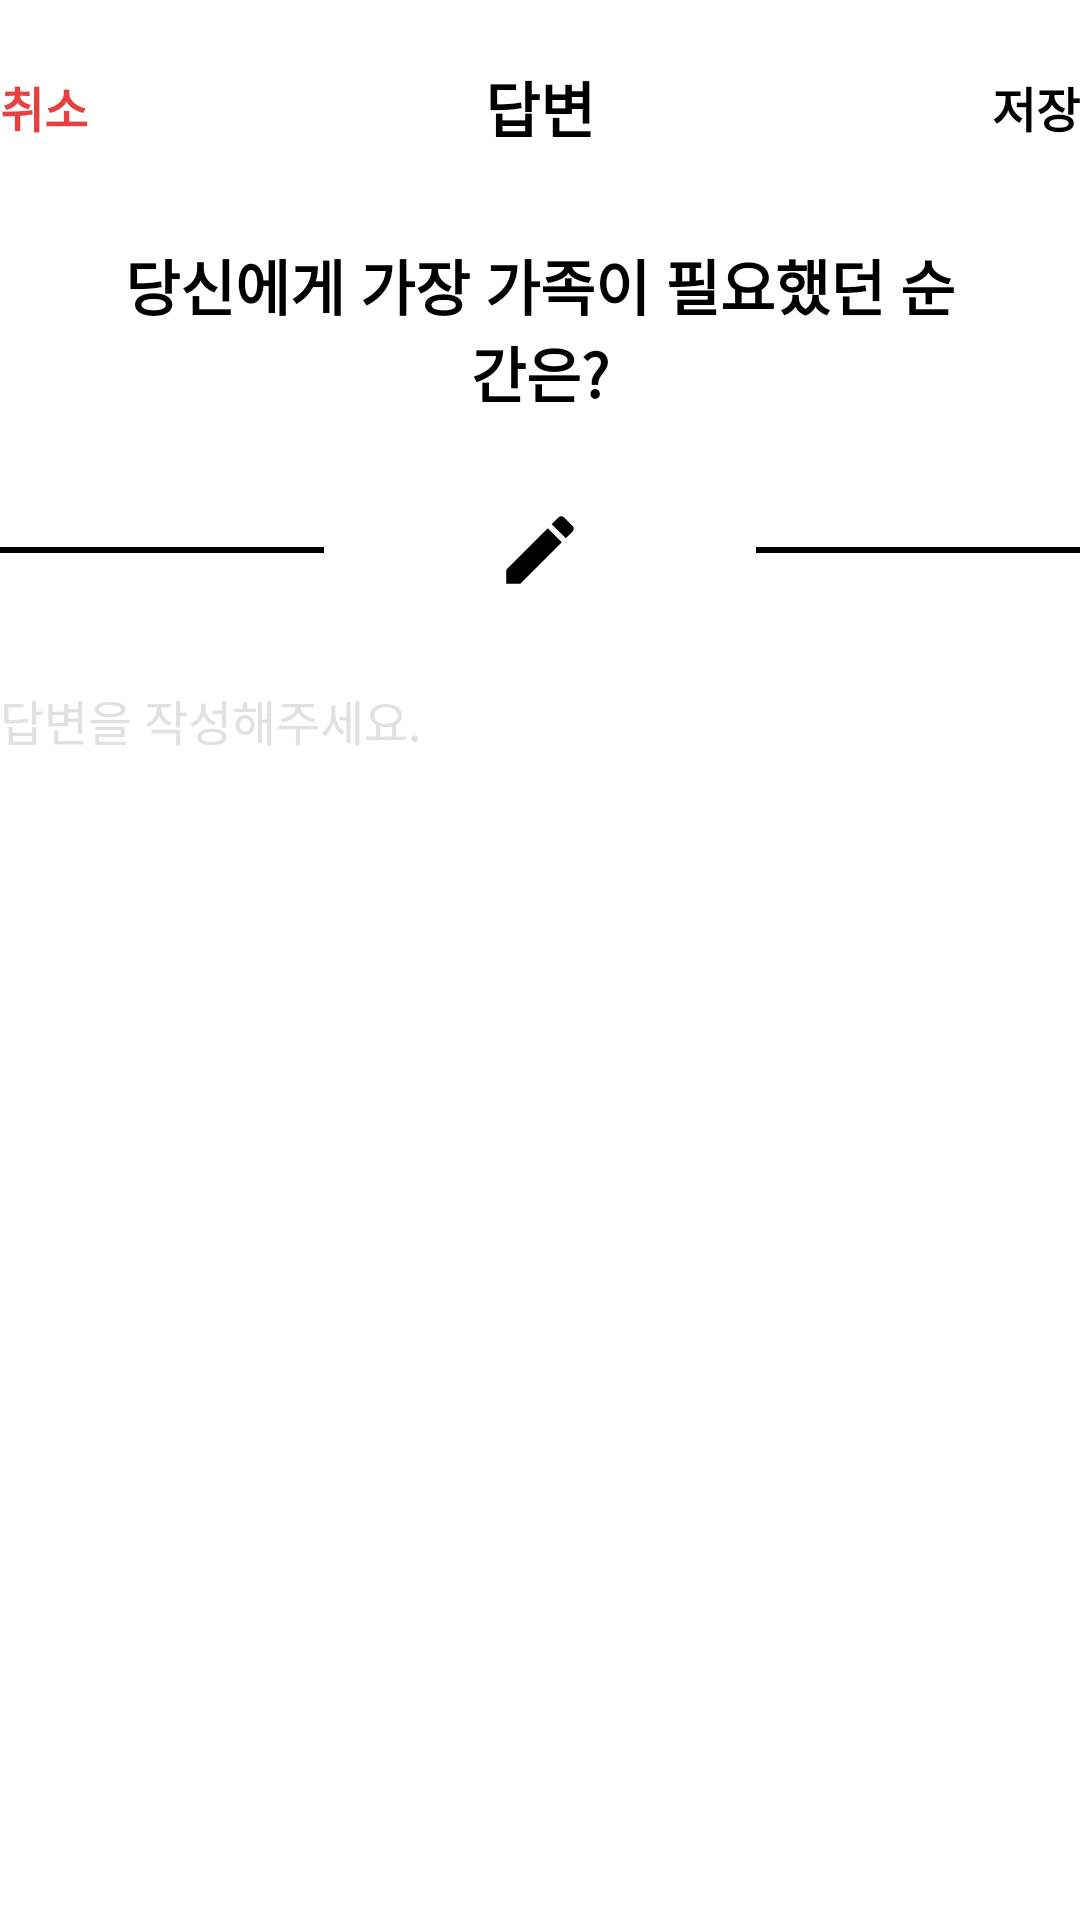

Icons on this 1080x1920 Android screen, each with the point to tap as (x,y):
edit: (540,550)
